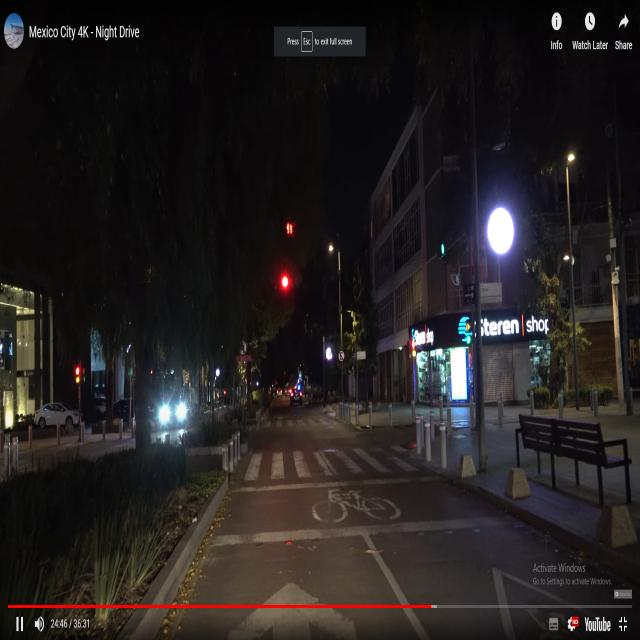headlights: (156, 402, 193, 429)
